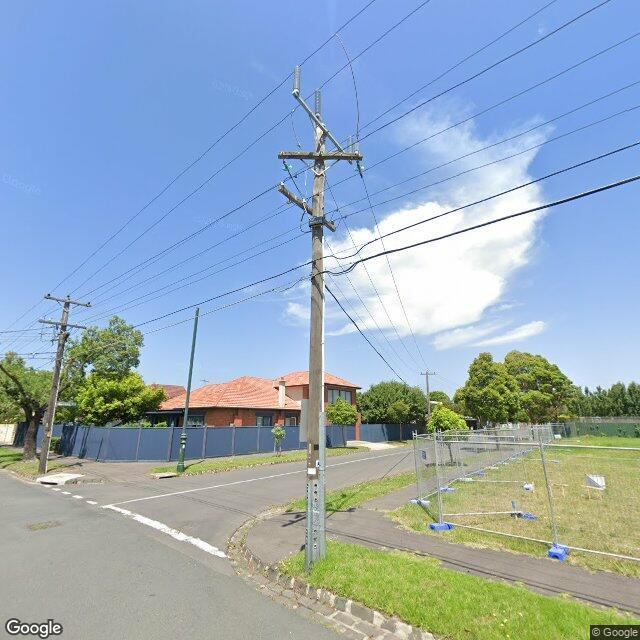HV-transmission: (294, 66, 353, 156), (280, 159, 366, 179), (48, 293, 90, 304), (420, 369, 436, 374)
crossarm: (293, 91, 353, 166), (277, 183, 335, 230), (279, 151, 363, 160), (44, 295, 92, 307), (38, 319, 86, 329), (419, 374, 436, 375)
steel-pole: (176, 307, 199, 473)
timber-pole: (304, 123, 327, 565), (39, 298, 70, 474), (426, 372, 429, 394)
